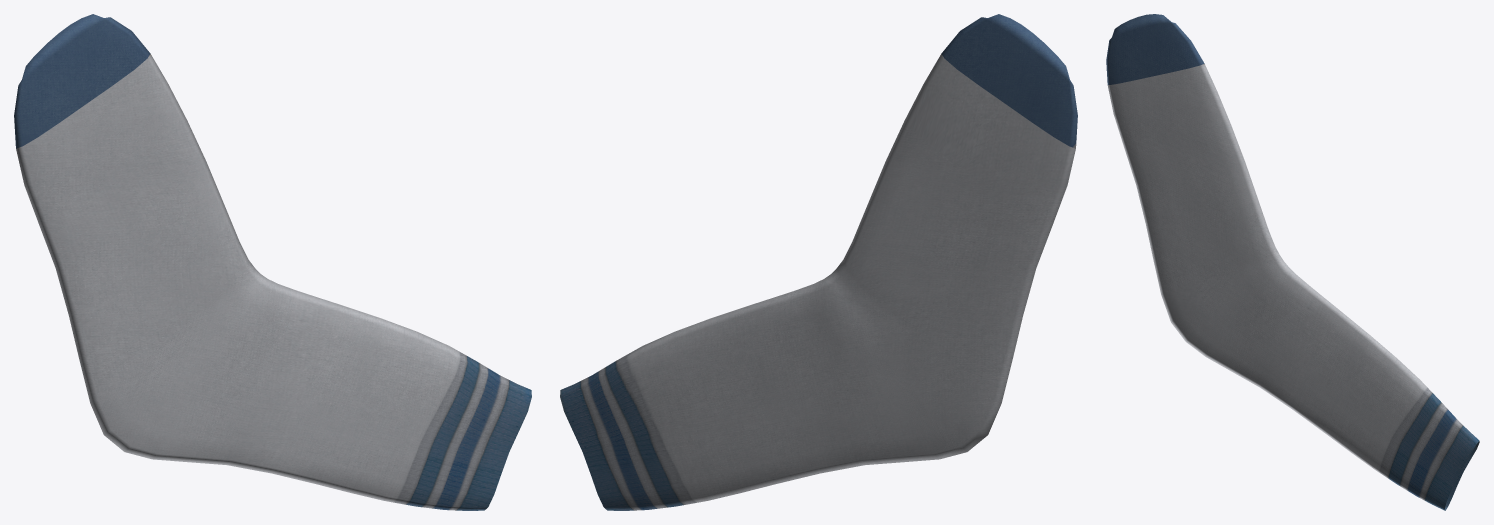
The model's file is sock3.dae.
3 renders of one model, left to right at view 1: azimuth 30°, elevation 25°; view 2: azimuth 150°, elevation 25°; view 3: azimuth 330°, elevation 25°, orthographic. The views are drawn at different scales.
Visible parts, largest first — view 1: Plane020; view 2: Plane020; view 3: Plane020.
Part boxes in pixels (left/top/right/bottom): Plane020: left=14, top=14, right=531, bottom=510; Plane020: left=560, top=14, right=1077, bottom=510; Plane020: left=1106, top=14, right=1479, bottom=510.
Bounding box in the file's own units: 5.19 × 0.2044 × 5.67.
